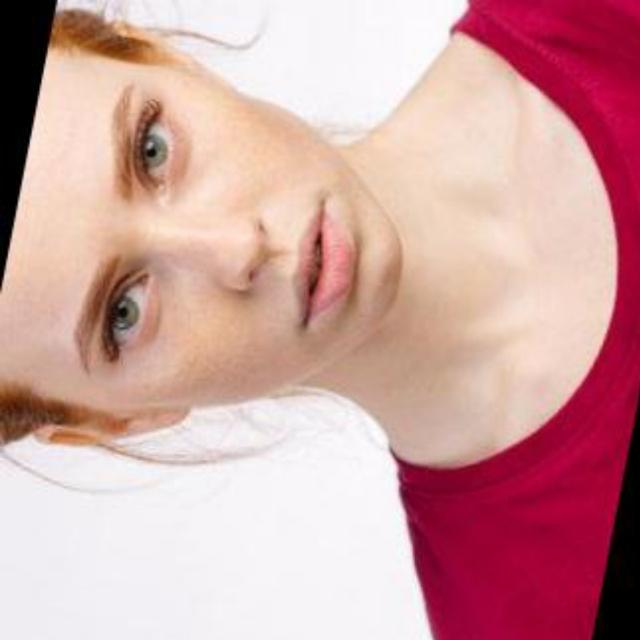Natural: (0, 25, 434, 442)
